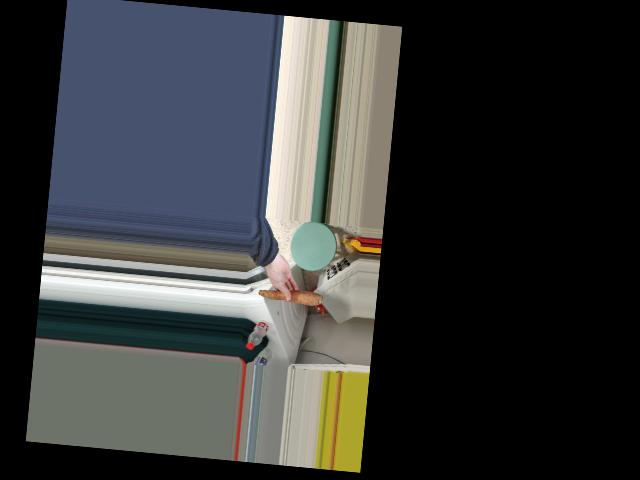sweet_potato: (256, 281, 322, 307)
